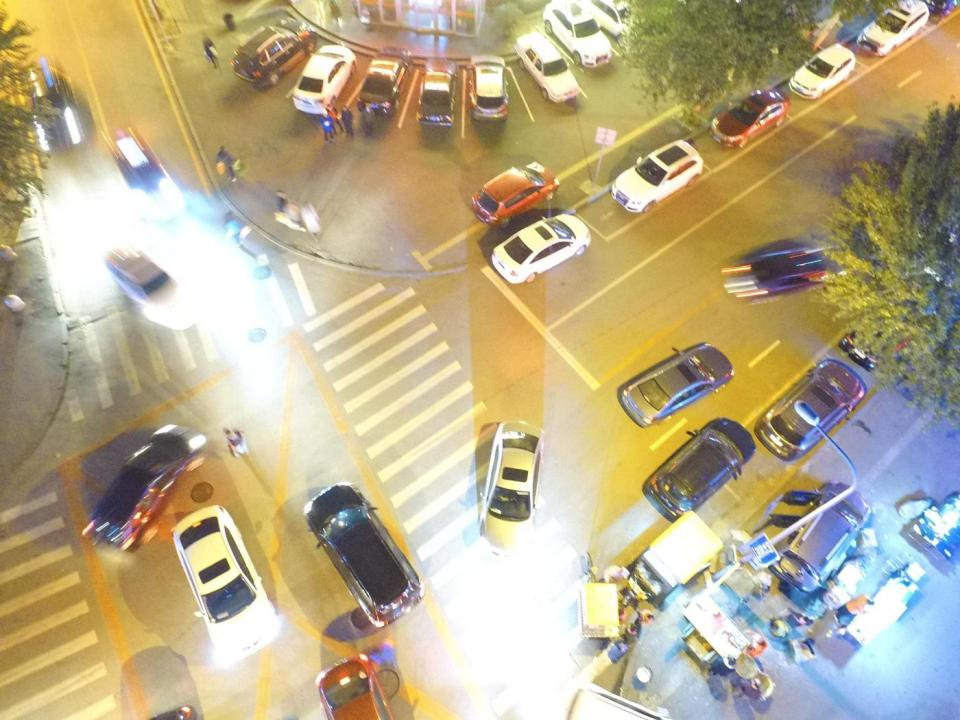car: (303, 483, 425, 628), (170, 504, 280, 660), (89, 423, 206, 551), (768, 478, 872, 600), (642, 416, 756, 524), (754, 358, 868, 463), (621, 342, 735, 429), (477, 420, 546, 556), (101, 119, 181, 215), (610, 137, 704, 215), (740, 236, 849, 303), (491, 212, 592, 284), (22, 55, 90, 160), (230, 17, 318, 89), (470, 160, 560, 230), (838, 302, 924, 372), (98, 237, 181, 309), (708, 86, 792, 152), (315, 653, 395, 720), (541, 0, 613, 69), (512, 31, 580, 104), (291, 44, 358, 116), (855, 0, 931, 59), (787, 40, 857, 101), (357, 45, 414, 119), (572, 0, 649, 50), (417, 55, 457, 129), (470, 50, 509, 122)
